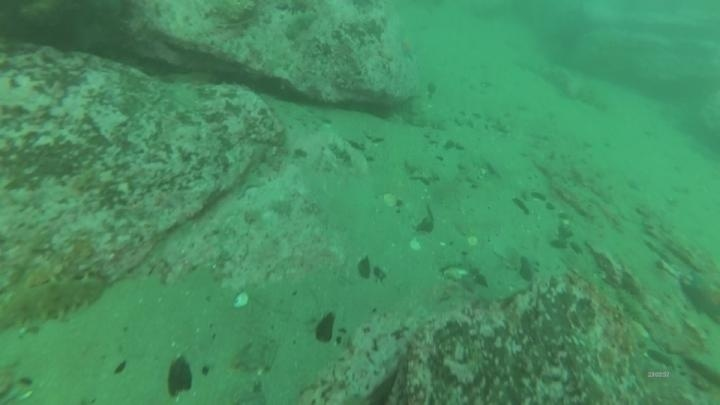holothurian: (0, 272, 109, 331)
starfish: (681, 270, 720, 326)
